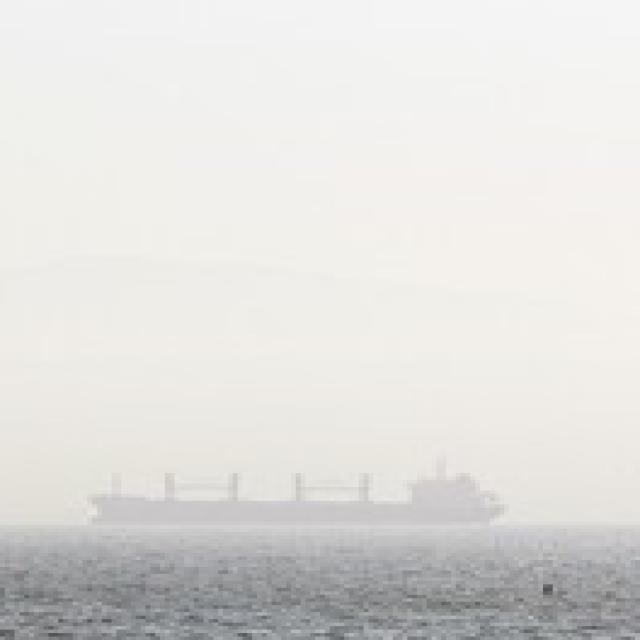cargoship: (87, 452, 514, 528)
